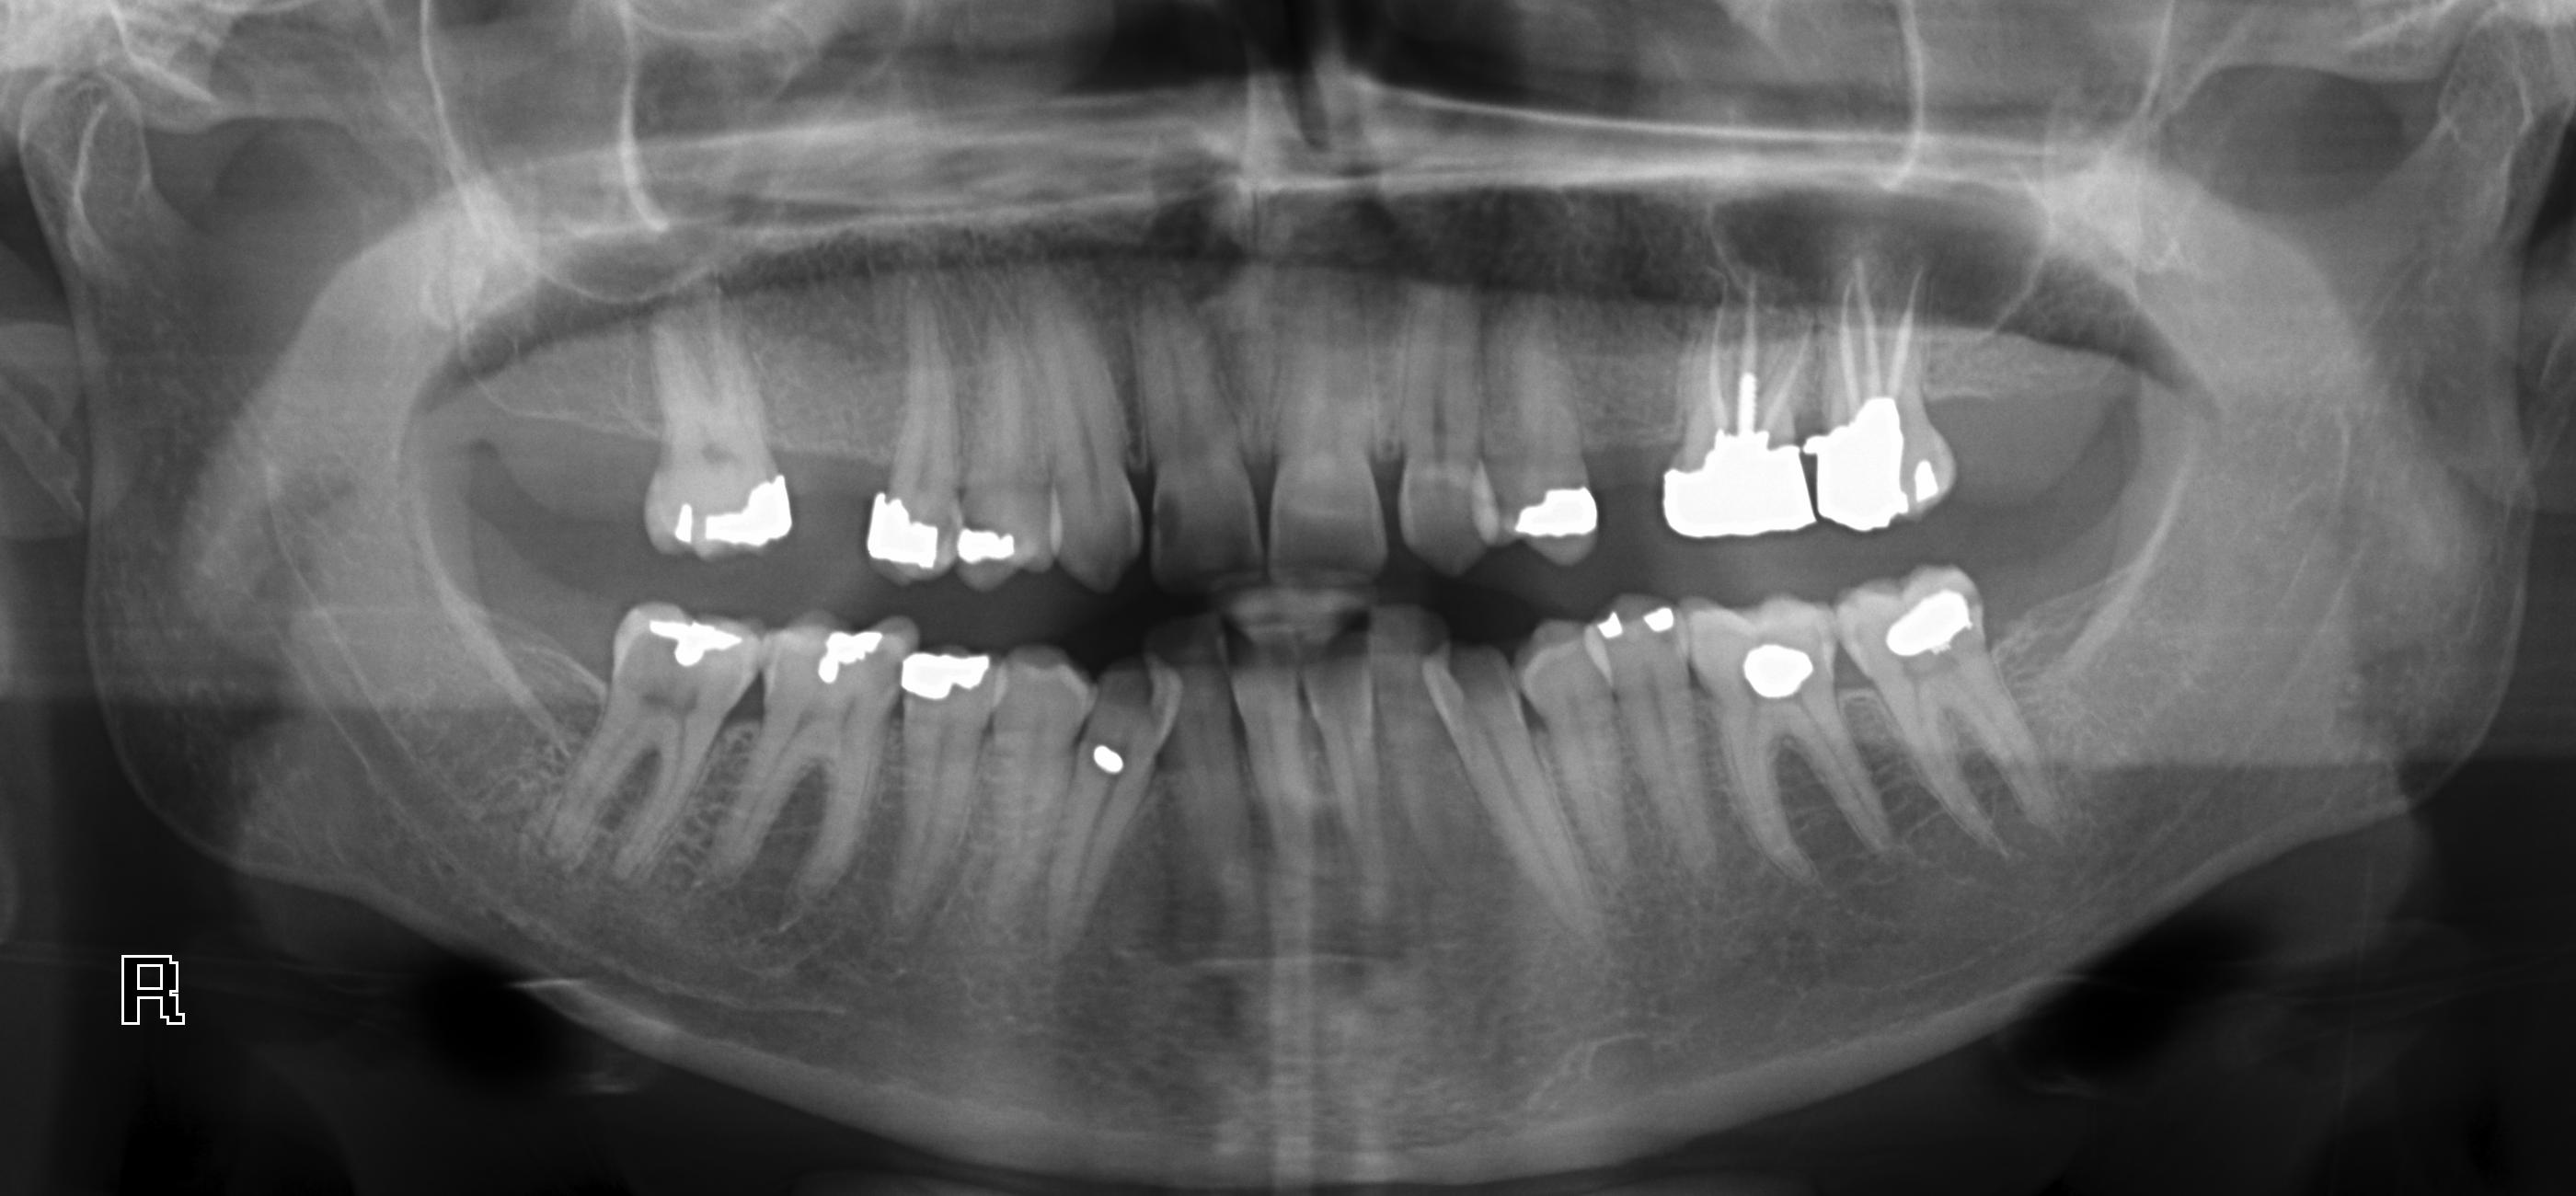Çürük: (1654, 434, 1814, 541), (1804, 386, 1911, 535), (703, 460, 798, 561), (1875, 585, 1965, 672), (857, 481, 939, 570), (1509, 477, 1611, 544), (638, 615, 756, 668), (898, 643, 999, 704), (806, 622, 884, 686), (1749, 638, 1816, 704), (952, 534, 1019, 569), (1909, 457, 1948, 514), (1627, 593, 1682, 629), (1087, 742, 1141, 777), (667, 495, 696, 552), (1595, 609, 1627, 643)
Çürük Bölgesi: (1152, 489, 1185, 567), (937, 512, 1001, 550), (1731, 678, 1766, 710), (1961, 581, 1995, 614), (880, 637, 898, 696), (1650, 629, 1684, 647)
